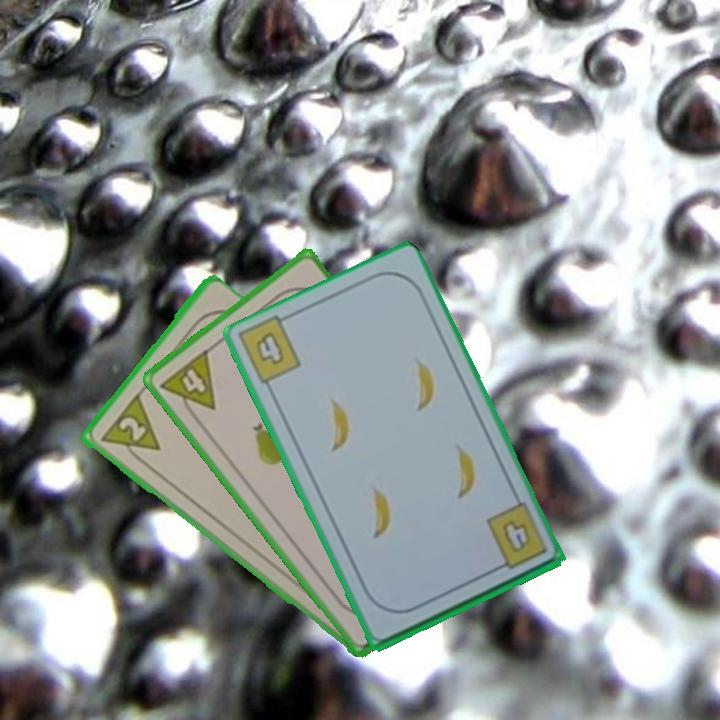2p: (95, 391, 163, 470)
4b: (482, 501, 550, 575), (251, 328, 287, 368)
4p: (156, 345, 219, 425)
